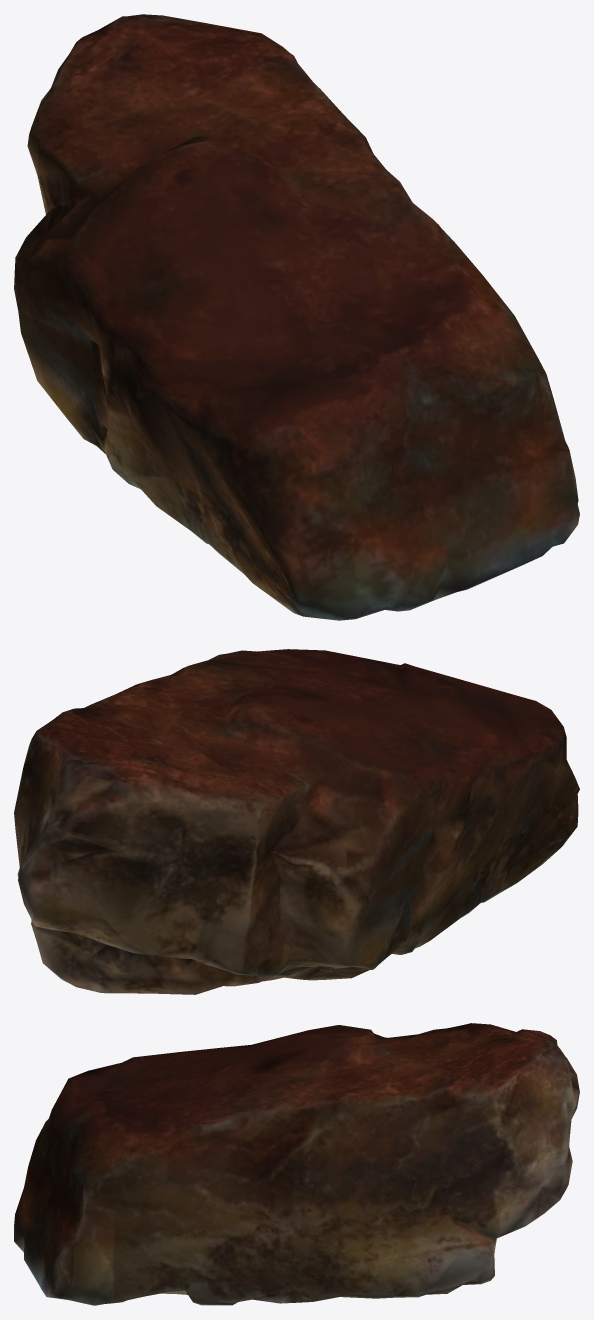
Rendered from rock_07_lod1.glb.
3 views of the same model, one above another, from view 1: azimuth 30°, elevation 25°; view 2: azimuth 150°, elevation 25°; view 3: azimuth 270°, elevation 25° (orthographic). The views are drawn at different scales.
Visible parts, largest first — view 1: rock_07; view 2: rock_07; view 3: rock_07.
Part boxes in pixels (x1,y1,x2,y2): rock_07: (14,14,579,620); rock_07: (14,649,579,994); rock_07: (14,1023,579,1305).
Bounding box in the file's own units: 0.1675 × 0.1436 × 0.3199.
Materials: 1 (1 with a texture image).
